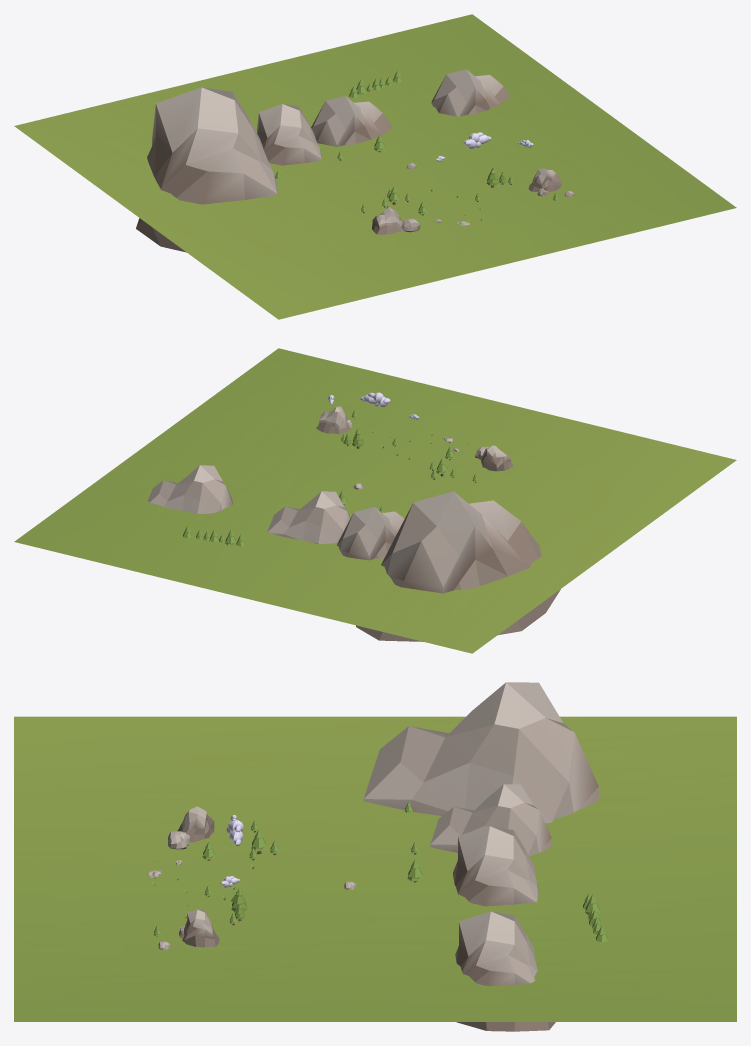
The model's file is battlefield.fbx.
3 renders of one model, top to bottom at view 1: azimuth 30°, elevation 25°; view 2: azimuth 150°, elevation 25°; view 3: azimuth 270°, elevation 25°, orthographic. The views are drawn at different scales.
Visible parts, largest first — view 1: Plane, RockHuge.005, RockHuge.004, RockHuge.003, RockHuge.006, RockHuge.001, RockHuge; view 2: Plane, RockHuge.005, RockHuge.003, RockHuge.006, RockHuge.004, RockHuge, RockHuge.001; view 3: Plane, RockHuge.005, RockHuge.006, RockHuge.003, RockHuge.004, RockHuge, RockHuge.001.
Part boxes in pixels (x1,y1,x2,y2): Plane: (14,14,736,319); RockHuge.005: (136,87,277,252); RockHuge.004: (257,104,321,165); RockHuge.003: (311,96,390,146); RockHuge.006: (431,69,509,116); RockHuge.001: (372,206,402,234); RockHuge: (528,168,561,191); Plane: (14,348,736,653); RockHuge.005: (356,491,560,641); RockHuge.003: (267,491,350,543); RockHuge.006: (147,465,233,514); RockHuge.004: (336,507,404,560); RockHuge: (316,406,350,433); RockHuge.001: (481,445,513,471); Plane: (14,716,736,1021); RockHuge.005: (363,682,599,823); RockHuge.006: (455,911,555,1031); RockHuge.003: (453,826,538,906); RockHuge.004: (430,784,552,856); RockHuge: (182,909,219,947); RockHuge.001: (177,806,214,842).
Size of the model in its own units: 1500 by 417 by 1500.
